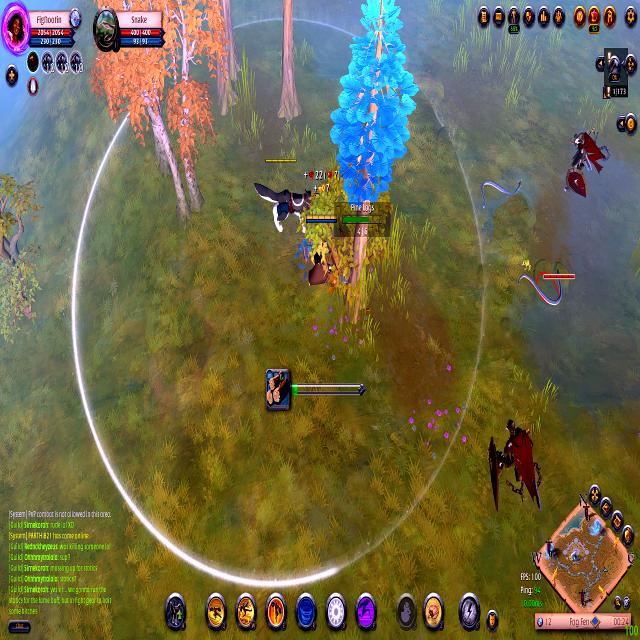ore: (482, 403, 548, 523), (560, 114, 608, 206)
red: (302, 209, 338, 309)
wisp caged: (85, 0, 231, 234), (329, 0, 414, 332), (268, 0, 311, 135), (203, 0, 244, 118)
